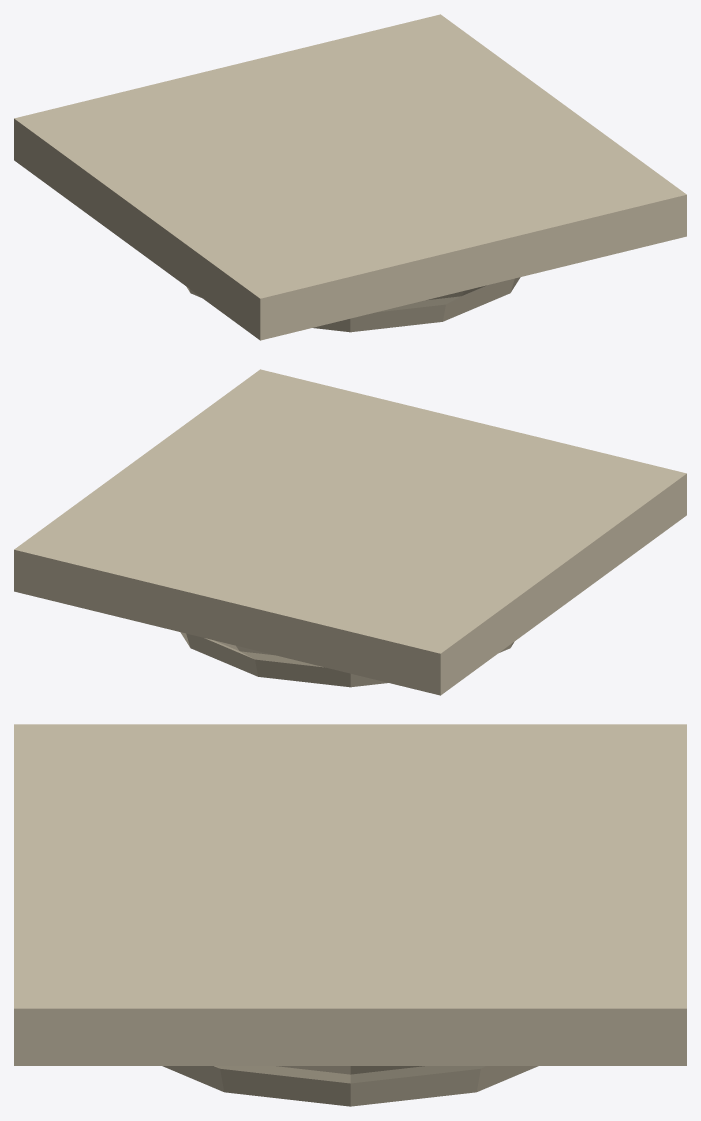
File: waterfront-capital.lod1.glb
3 views of the same model, one above another, from view 1: azimuth 30°, elevation 25°; view 2: azimuth 150°, elevation 25°; view 3: azimuth 270°, elevation 25° (orthographic). The views are drawn at different scales.
Visible parts, largest first — view 1: waterfront-capital; view 2: waterfront-capital; view 3: waterfront-capital.
Part boxes in pixels (x1,y1,x2,y2): waterfront-capital: [14, 14, 686, 340]; waterfront-capital: [14, 369, 686, 695]; waterfront-capital: [14, 724, 686, 1106].
Size of the model in its own units: 1.6 by 0.35 by 1.6.
